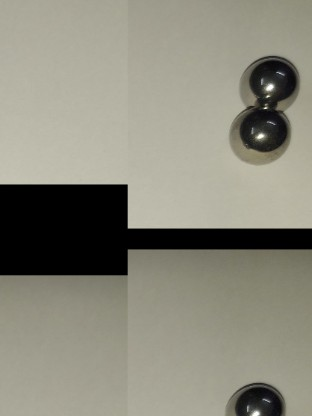ironball: (225, 106, 290, 166), (240, 51, 304, 110), (216, 376, 285, 415)
